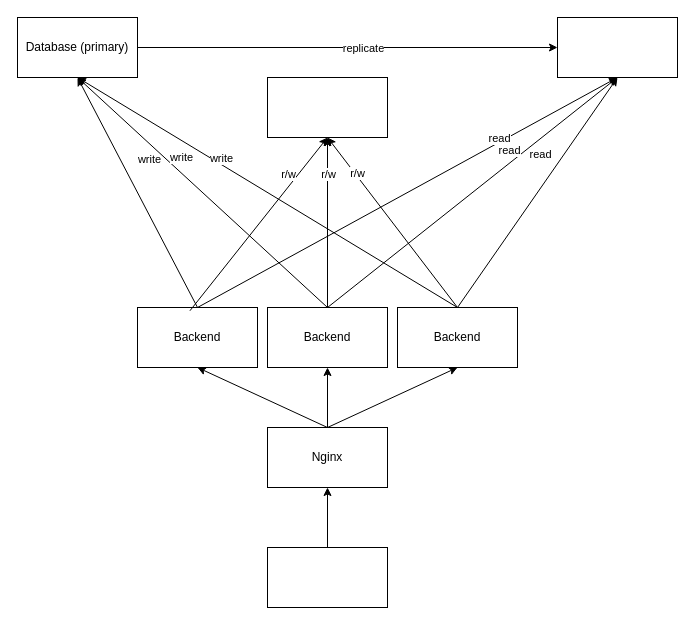
This 695x625 diagram has some shape labels left out. Each missing label, with the box of its shape:
Database (replicated): (556, 16, 678, 78)
Frontend: (266, 546, 388, 608)
Redis: (266, 76, 388, 138)
